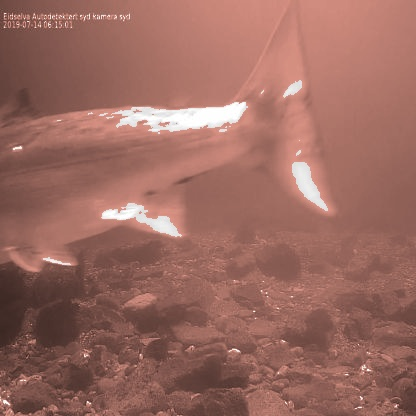salmon: (0, 0, 345, 275)
